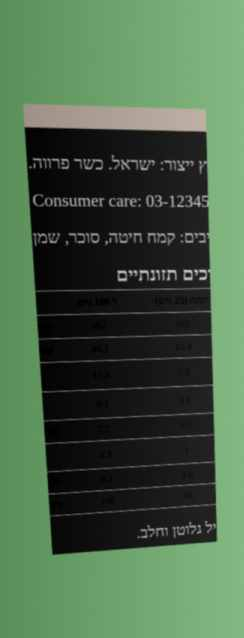carbs: (96, 423, 112, 435)
energy: (90, 319, 108, 332)
fat: (90, 342, 110, 355)
protein: (99, 473, 114, 485)
